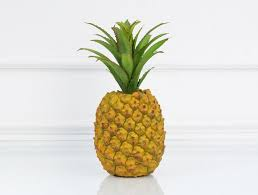pineapple: (93, 90, 166, 177)
